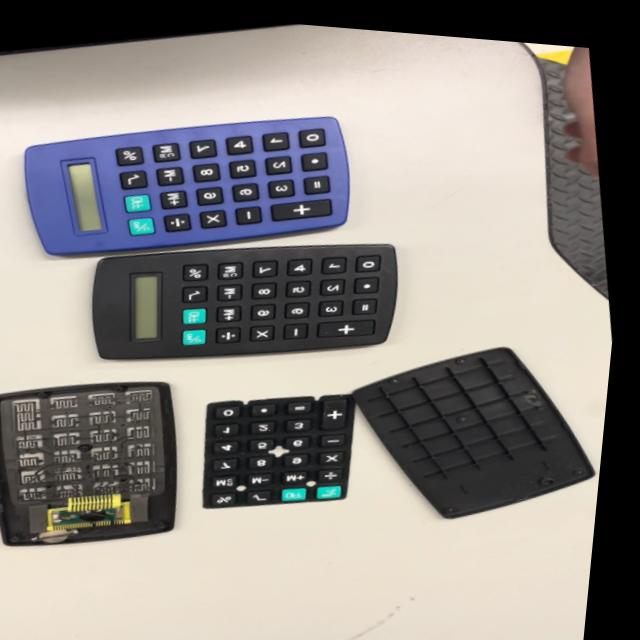back_cover: (339, 317, 613, 546)
calculator: (7, 82, 371, 288), (63, 204, 418, 399)
front_panel: (0, 360, 193, 564)
number_pad: (174, 376, 375, 535)
